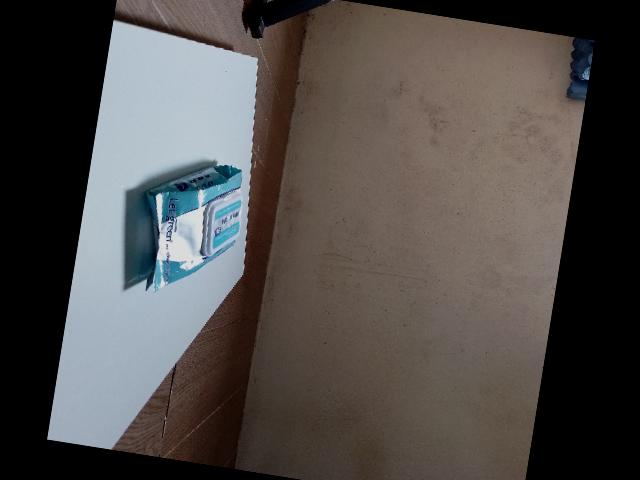Let-green_alcohol_wipes: (143, 164, 241, 293)
